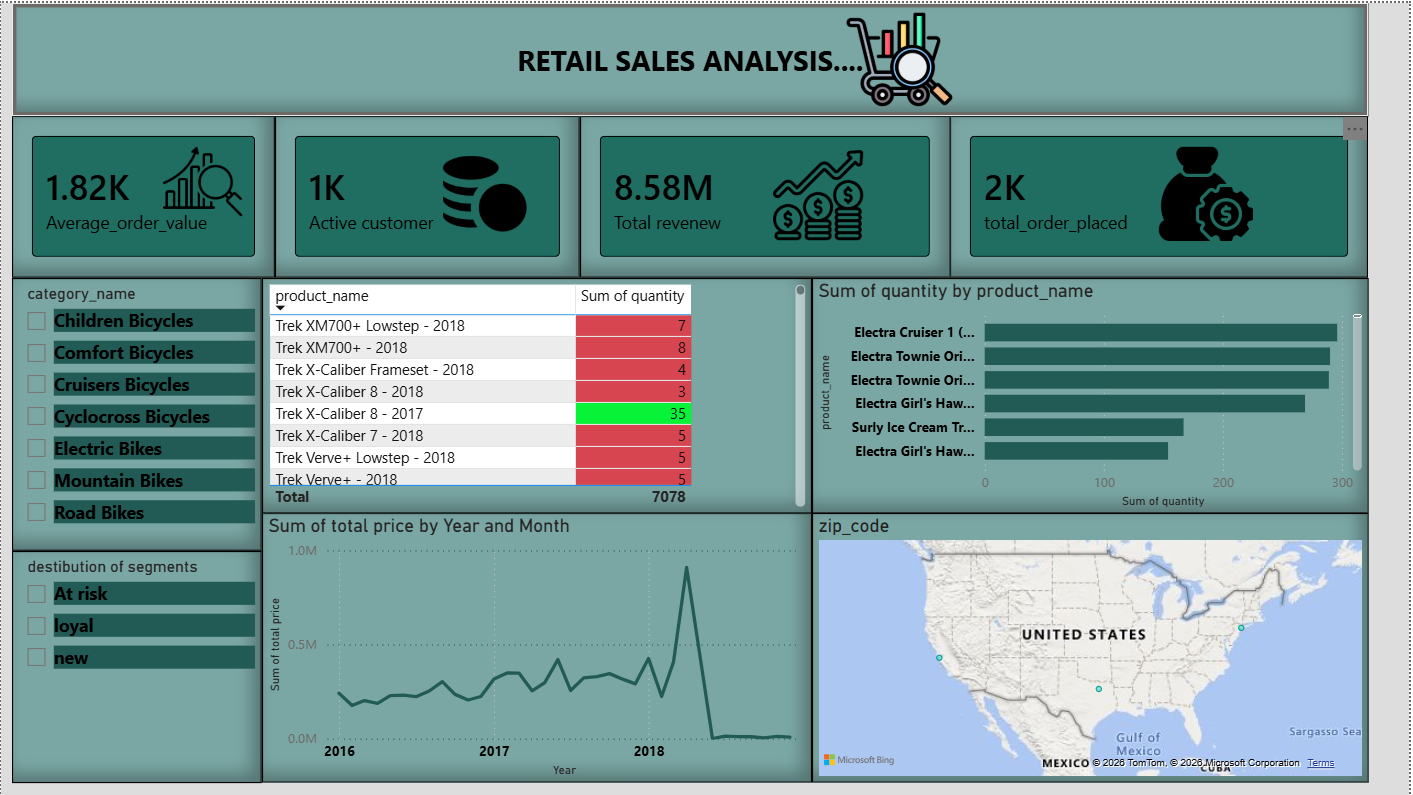

The page's visual inventory and layout, read from the dashboard file:
{"tool":"powerbi","page":{"name":"Page 1","canvas":[1280,720],"ordinal":0},"visuals":[{"type":"lineChart","fields":{"Y":["Sum(retail_sales order_items.total price)"],"Category":["retail_sales orders.order_date.Variation.Date Hierarchy.Year","retail_sales orders.order_date.Variation.Date Hierarchy.Month"]},"box":[237.3,464,499.9,245.1],"z":0},{"type":"barChart","fields":{"Category":["retail_sales products.product_name"],"Y":["Sum(retail_sales order_items.quantity)"]},"box":[737.3,250,505.8,214],"z":1000},{"type":"cardVisual","fields":{"Data":["retail_sales brands.total_order_placed"]},"box":[862.7,103.1,380.3,146.9],"z":2000},{"type":"map","fields":{"Category":["retail_sales stores.zip_code"]},"box":[737,463.9,506,245.4],"z":3000},{"type":"tableEx","fields":{"Values":["retail_sales products.product_name","Sum(retail_sales order_items.quantity)"]},"box":[237.3,250,499.9,214],"z":4000},{"type":"slicer","fields":{"Values":["retail_sales categories.category_name"]},"box":[9.9,249.9,227.5,248.1],"z":5000},{"type":"cardVisual","fields":{"Data":["retail_sales brands.revenew"]},"box":[526.2,103.1,336.5,146.9],"z":6000},{"type":"cardVisual","fields":{"Data":["retail_sales brands.Active customers"]},"box":[249,103.1,277.2,146.9],"z":7000},{"type":"cardVisual","fields":{"Data":["retail_sales brands.Average_order_value"]},"box":[9.7,103.1,239.3,146.9],"z":8000},{"type":"image","box":[146.9,116.7,72,92.4],"z":9000},{"type":"actionButton","box":[9.7,0,1233.3,103.1],"z":10000},{"type":"image","box":[661.4,133.3,161.5,81.7],"z":11000},{"type":"image","box":[401.7,116.7,75.9,114.8],"z":12000},{"type":"image","box":[1046.6,124.5,98.2,98.2],"z":13000},{"type":"image","box":[737.3,1.9,158.5,99.2],"z":14000},{"type":"slicer","fields":{"Values":["retail_sales customer_segments.destibution of segments"]},"box":[9.9,497.9,227.5,211.3],"z":15000}]}

Visuals, with their boxes in screenshot pixels (x1, y1, x2, y2), scaled from the page's 1280x720 canvas onto the 1413x795 screenshot:
lineChart - Sum(retail_sales order_items.total price) x retail_sales orders.order_date.Variation.Date Hierarchy.Year: bbox=(262, 512, 814, 783)
barChart - retail_sales products.product_name x Sum(retail_sales order_items.quantity): bbox=(814, 276, 1372, 512)
cardVisual - retail_sales brands.total_order_placed: bbox=(952, 114, 1372, 276)
map - retail_sales stores.zip_code: bbox=(814, 512, 1372, 783)
tableEx - retail_sales products.product_name x Sum(retail_sales order_items.quantity): bbox=(262, 276, 814, 512)
slicer - retail_sales categories.category_name: bbox=(11, 276, 262, 550)
cardVisual - retail_sales brands.revenew: bbox=(581, 114, 952, 276)
cardVisual - retail_sales brands.Active customers: bbox=(275, 114, 581, 276)
cardVisual - retail_sales brands.Average_order_value: bbox=(11, 114, 275, 276)
image: bbox=(162, 129, 242, 231)
actionButton: bbox=(11, 0, 1372, 114)
image: bbox=(730, 147, 908, 237)
image: bbox=(443, 129, 527, 256)
image: bbox=(1155, 137, 1264, 246)
image: bbox=(814, 2, 989, 112)
slicer - retail_sales customer_segments.destibution of segments: bbox=(11, 550, 262, 783)
